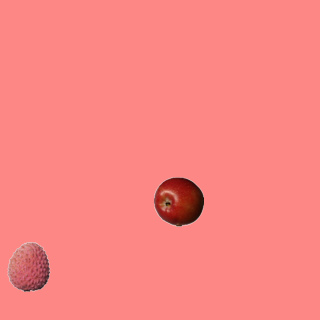Apple Braeburn: (153, 176, 203, 226)
Lychee: (3, 241, 53, 291)
